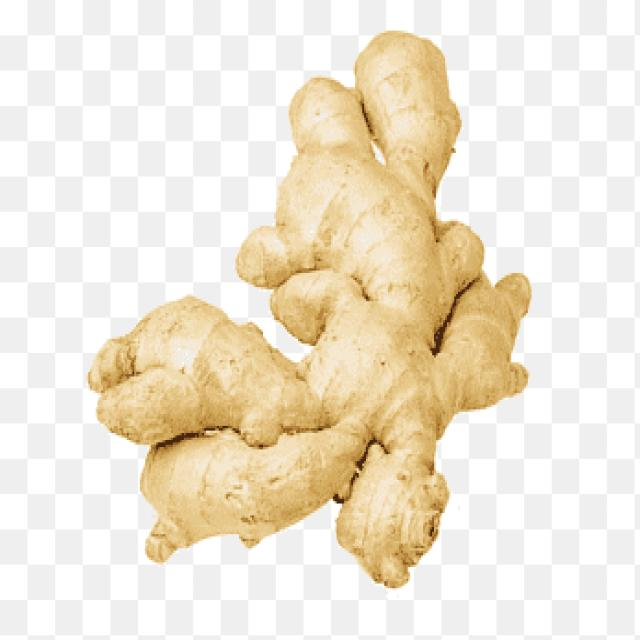ginger-root: (78, 16, 560, 598)
